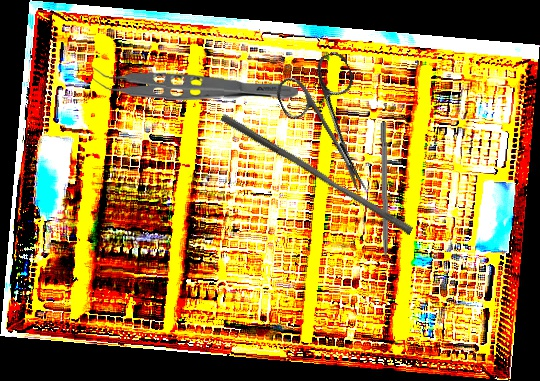Hook Surgical: (379, 122, 389, 277)
Iris Scissors: (269, 48, 400, 208)
Pusher: (215, 113, 418, 236)
Tissue Forceps: (91, 64, 299, 102)
